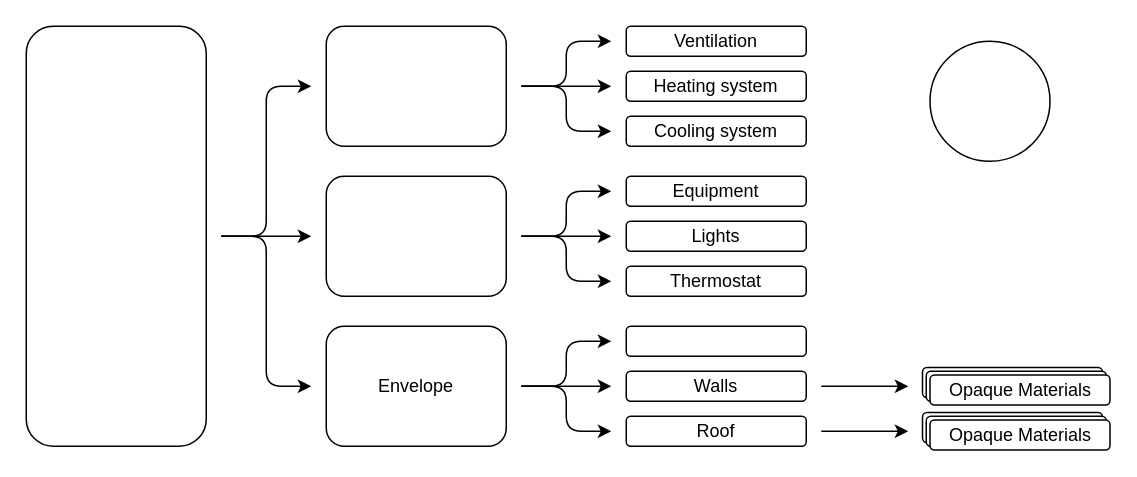
This 1137x477 diagram has some shape labels left out. The shapes that lost their labels are listed below. From the top down, each one's centre as x and y in pixels, then its label:
pixel 415 85: HVAC
pixel 115 235: Building
pixel 415 235: Space use
pixel 715 340: Infiltration
